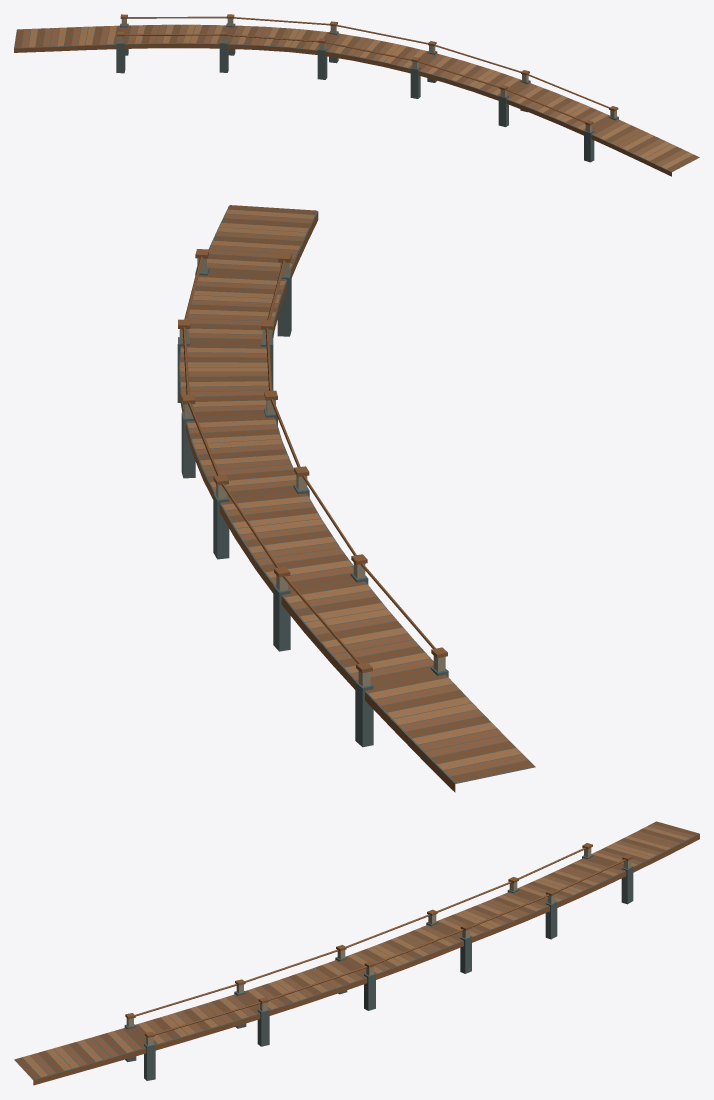
Rendered from 1_mineral_spring_1.glb.
3 renders of one model, top to bottom at view 1: azimuth 30°, elevation 25°; view 2: azimuth 150°, elevation 25°; view 3: azimuth 270°, elevation 25°, orthographic. The views are drawn at different scales.
Visible parts, largest first — view 1: Detail_12_14, Deck_12_14-col, Detail_12_15; view 2: Detail_12_14, Deck_12_14-col, Detail_12_15; view 3: Detail_12_14, Deck_12_14-col.
Part boxes in pixels (x1,y1,x2,y2): Detail_12_14: (14, 14, 687, 166); Deck_12_14-col: (14, 25, 670, 158); Detail_12_15: (644, 152, 698, 176); Detail_12_14: (177, 214, 534, 792); Deck_12_14-col: (179, 227, 535, 783); Detail_12_15: (226, 205, 318, 241); Detail_12_14: (30, 821, 699, 1085); Deck_12_14-col: (53, 823, 699, 1069).
Size of the model in its own units: 26.86 by 3.65 by 32.5.
